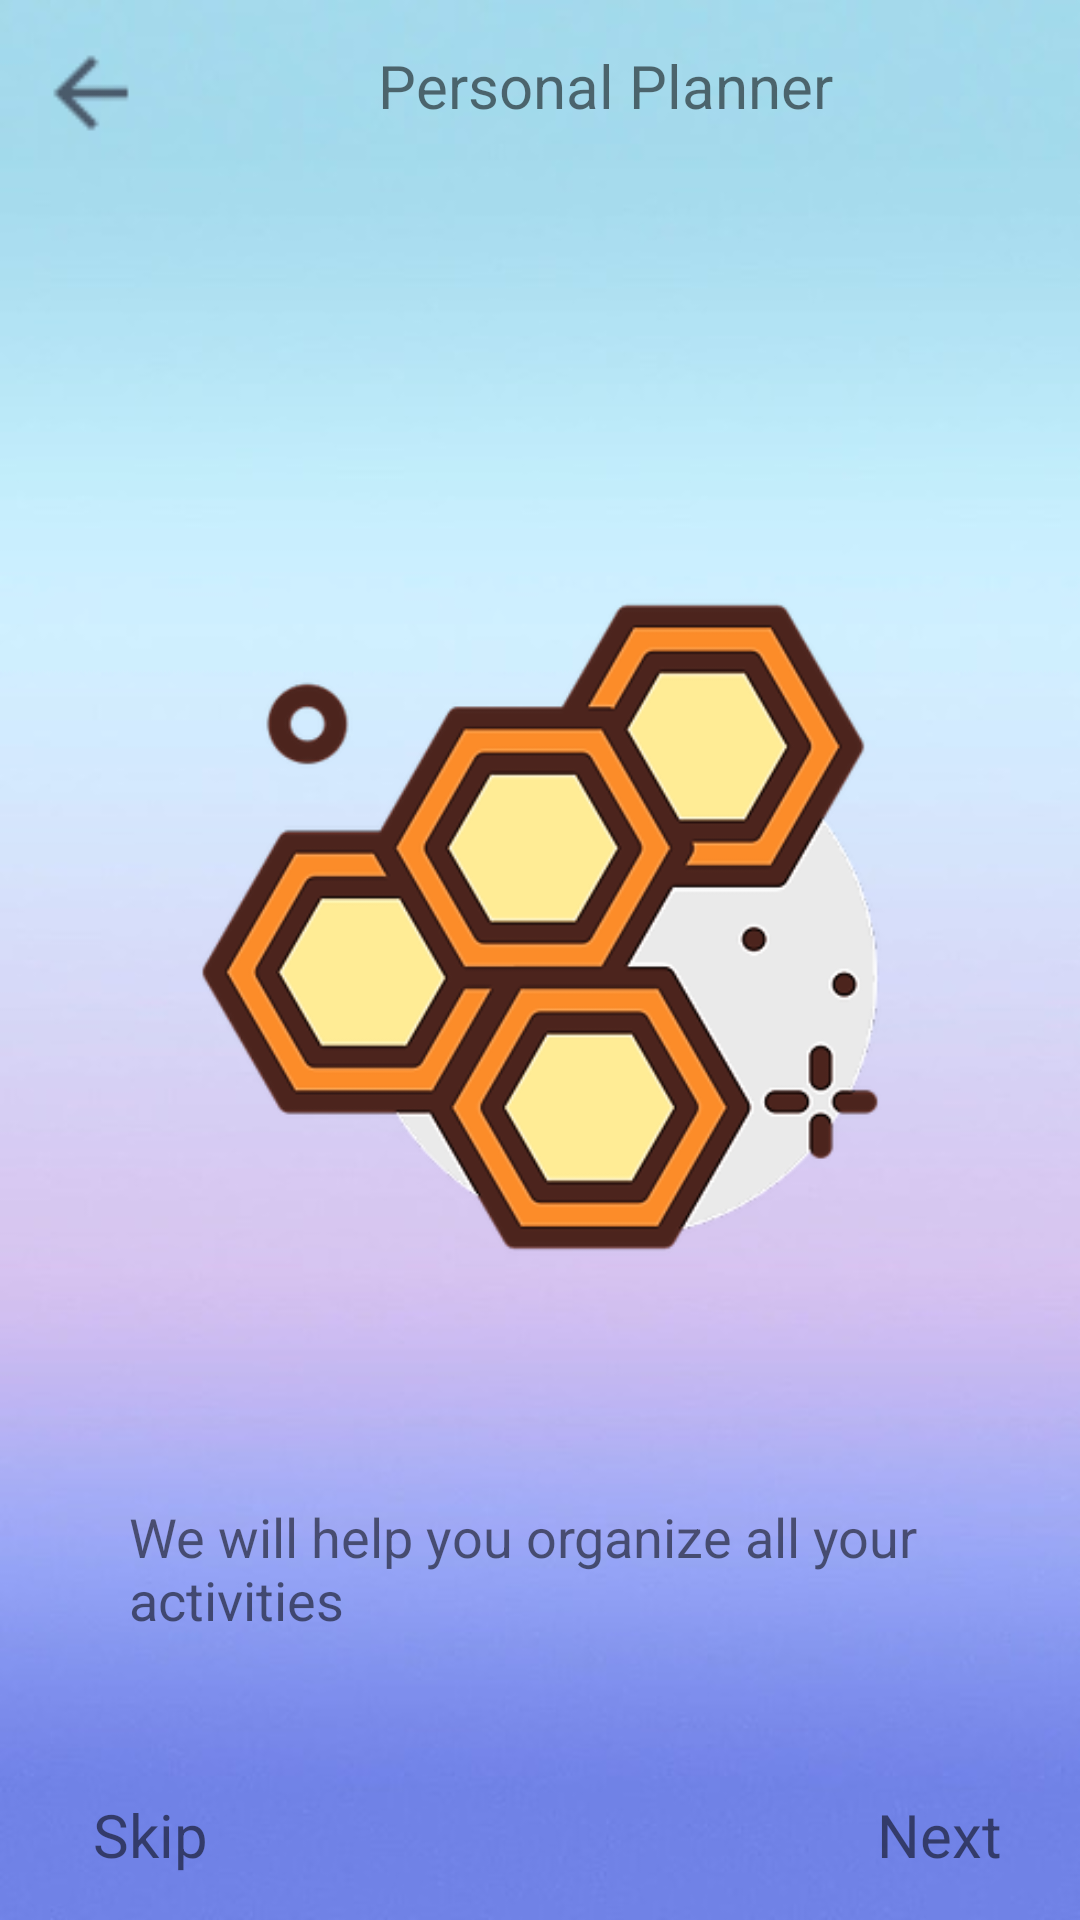

Where to tap for icons on this 1080 x 1920 app screen, as point (x, y):
back arrow: point (91, 93)
